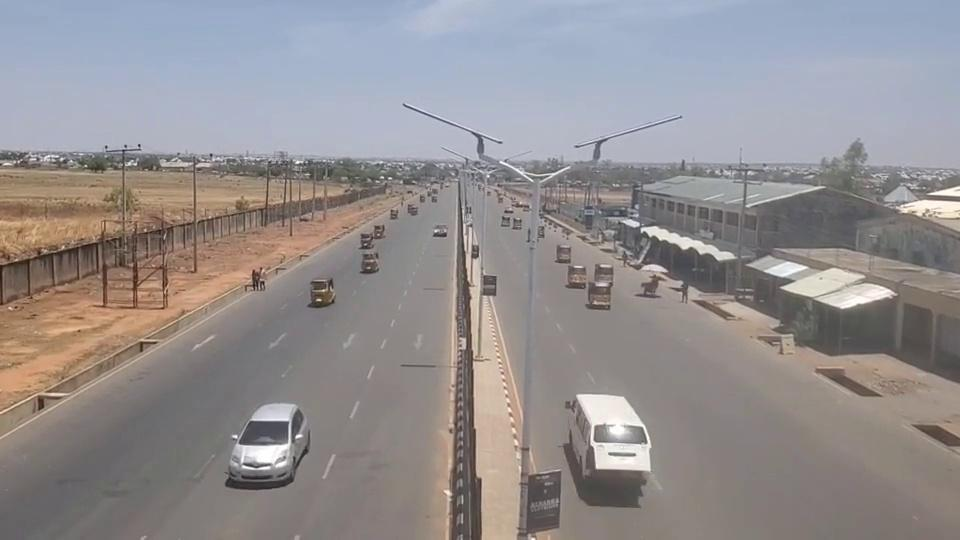bus: (565, 393, 651, 484)
car: (229, 402, 308, 484)
keke: (309, 276, 335, 306), (360, 251, 379, 272), (360, 232, 374, 249), (373, 224, 385, 239)
